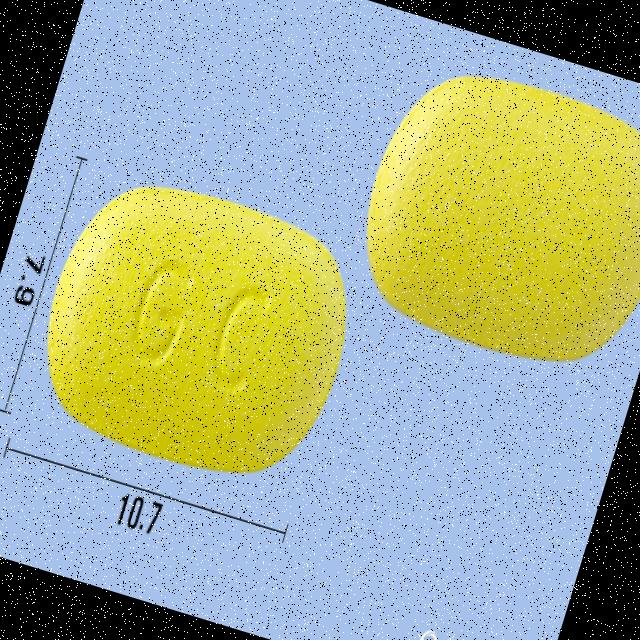Clarimicin: (12, 146, 380, 504), (335, 44, 640, 391)
